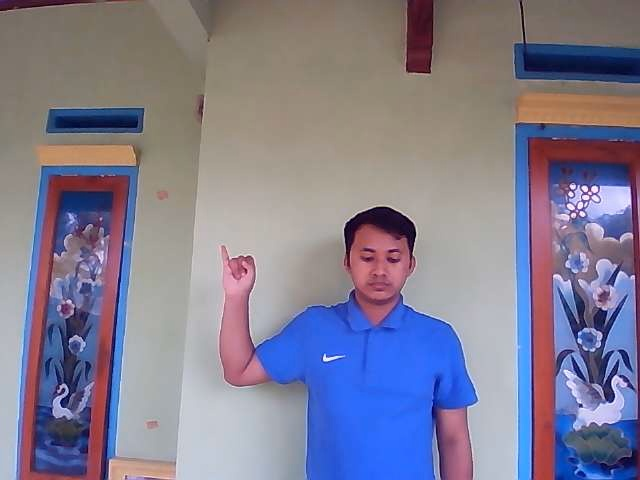I: (220, 242, 257, 295)
